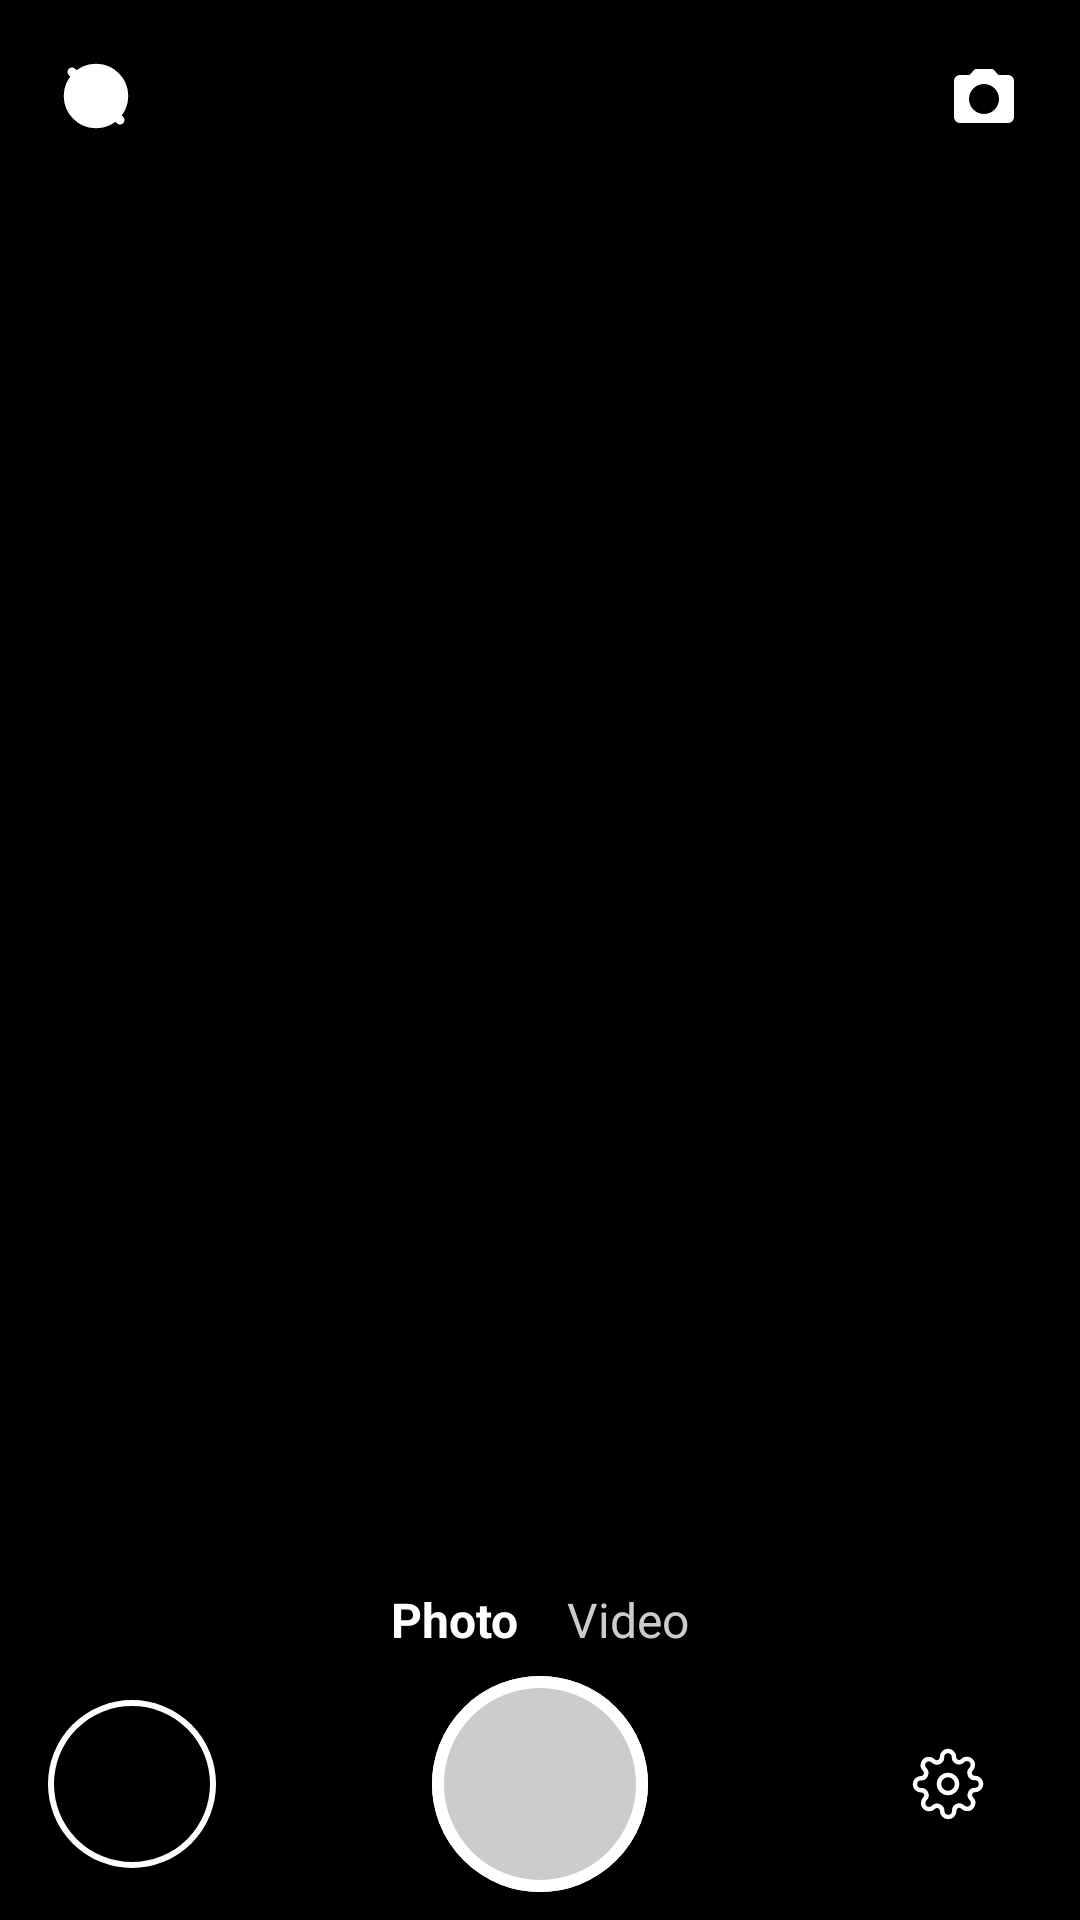

Icons on this 1080px x 1920px Android screen, each with the point to tap as (x,y):
Settings: (948,1784)
